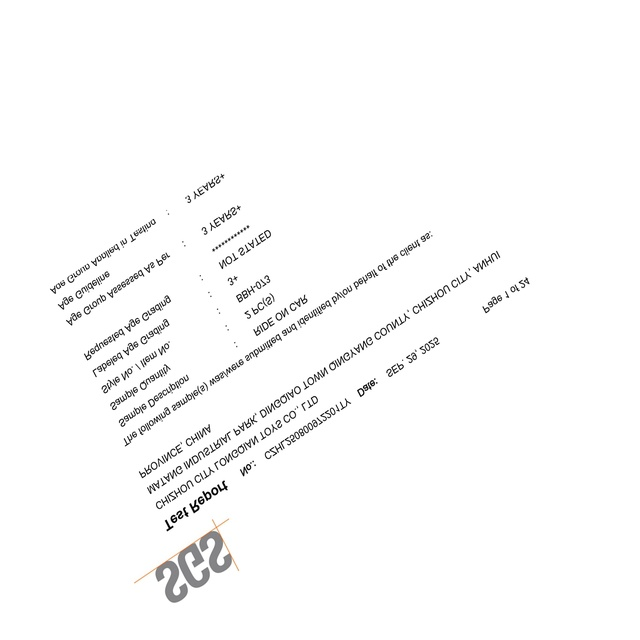sgs: (155, 531, 232, 604)
